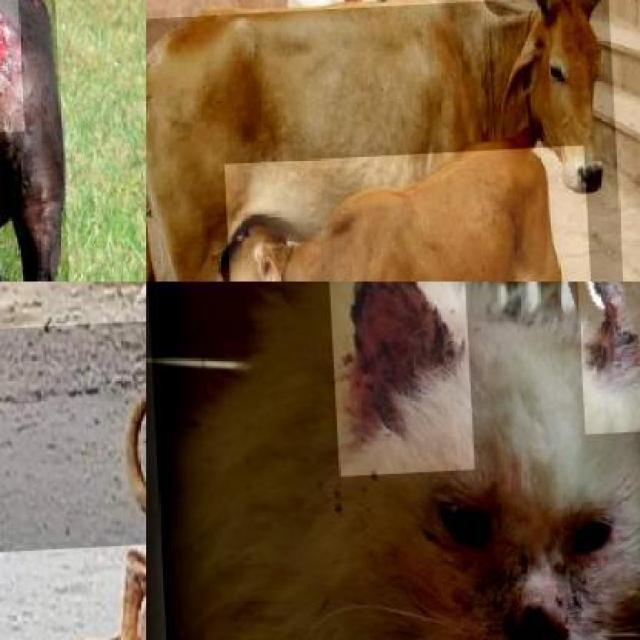buffalo: (0, 0, 77, 282)
cat: (146, 281, 640, 640)
cow: (146, 0, 632, 282), (223, 144, 600, 282)
dog: (0, 300, 146, 640)
injured: (328, 282, 474, 476), (0, 535, 146, 640), (575, 281, 640, 434), (498, 567, 583, 640), (0, 0, 24, 135)
